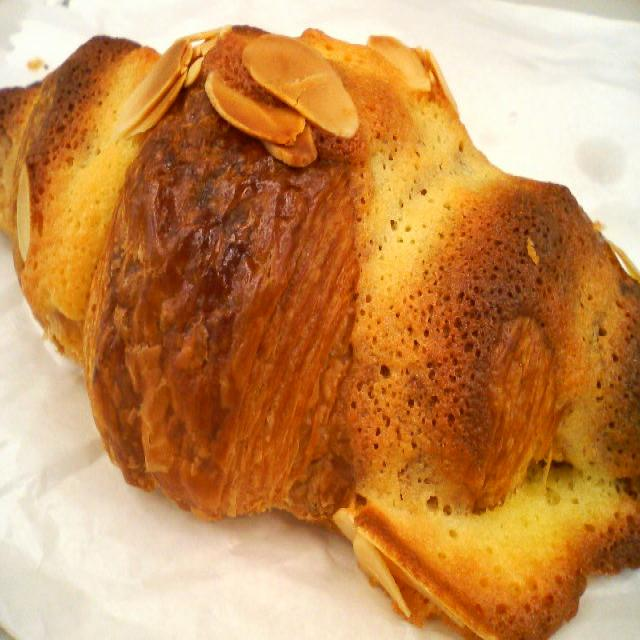面包点心: (0, 17, 640, 640)
